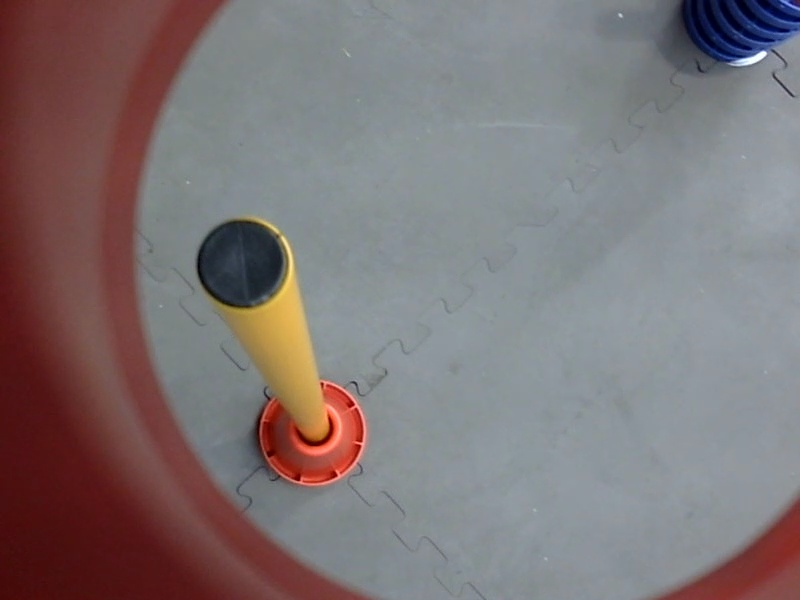tip: (190, 206, 299, 317)
